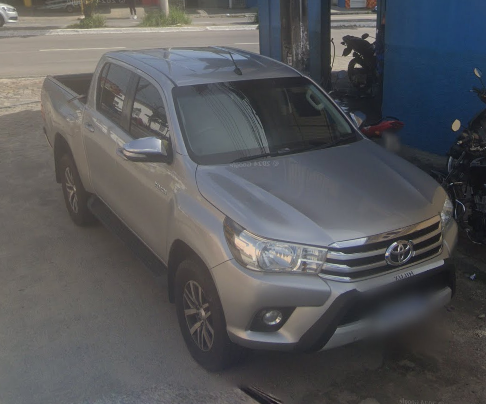car: (34, 46, 456, 377)
